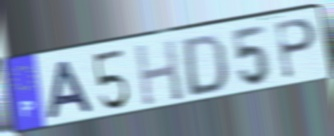5: (228, 22, 275, 89), (91, 47, 130, 113)
A: (44, 58, 97, 122)
D: (182, 32, 229, 99)
H: (132, 37, 186, 108)
P: (274, 17, 319, 82)
